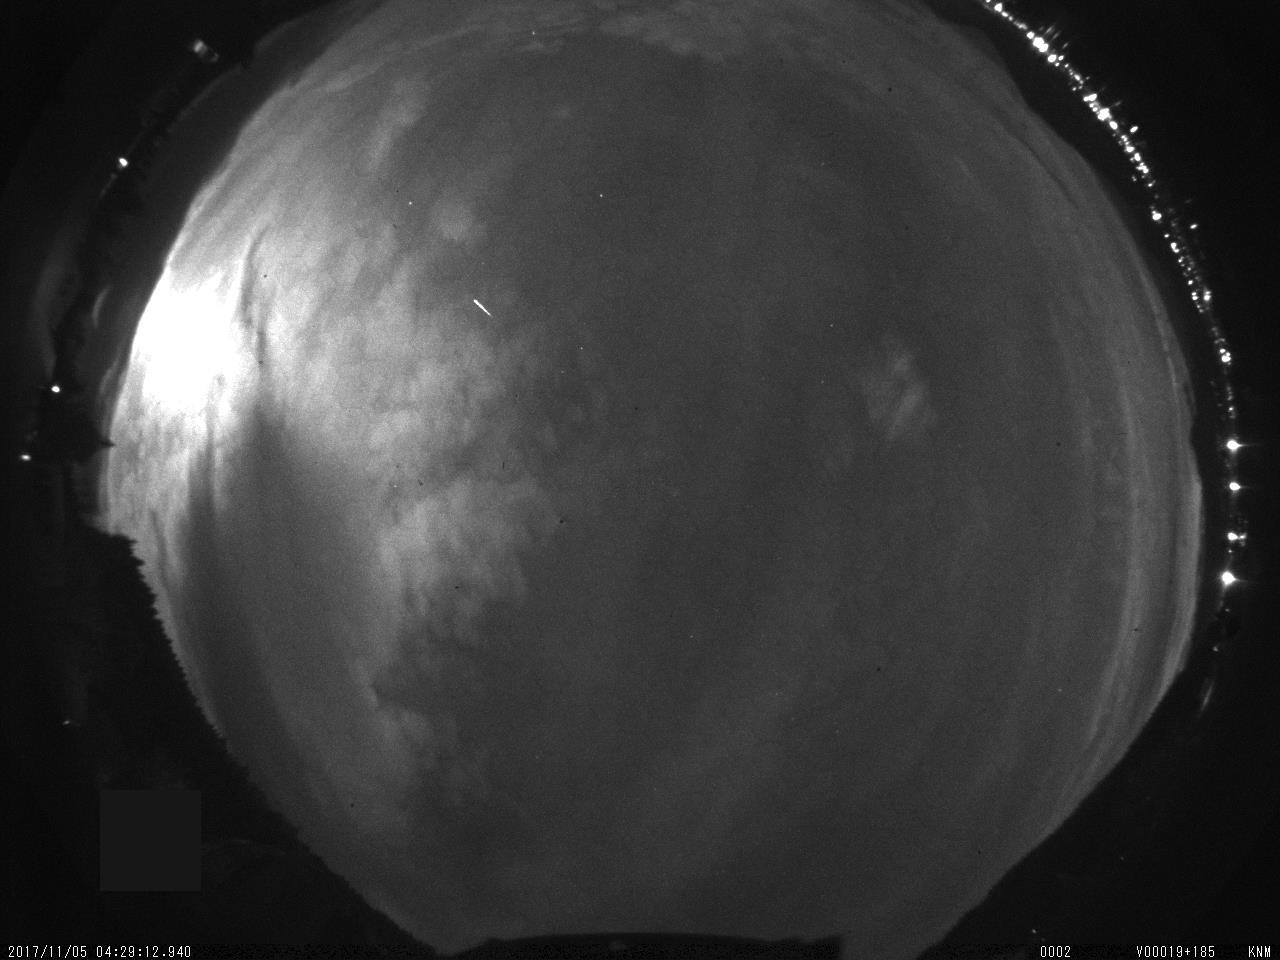meteor: (463, 291, 502, 322)
